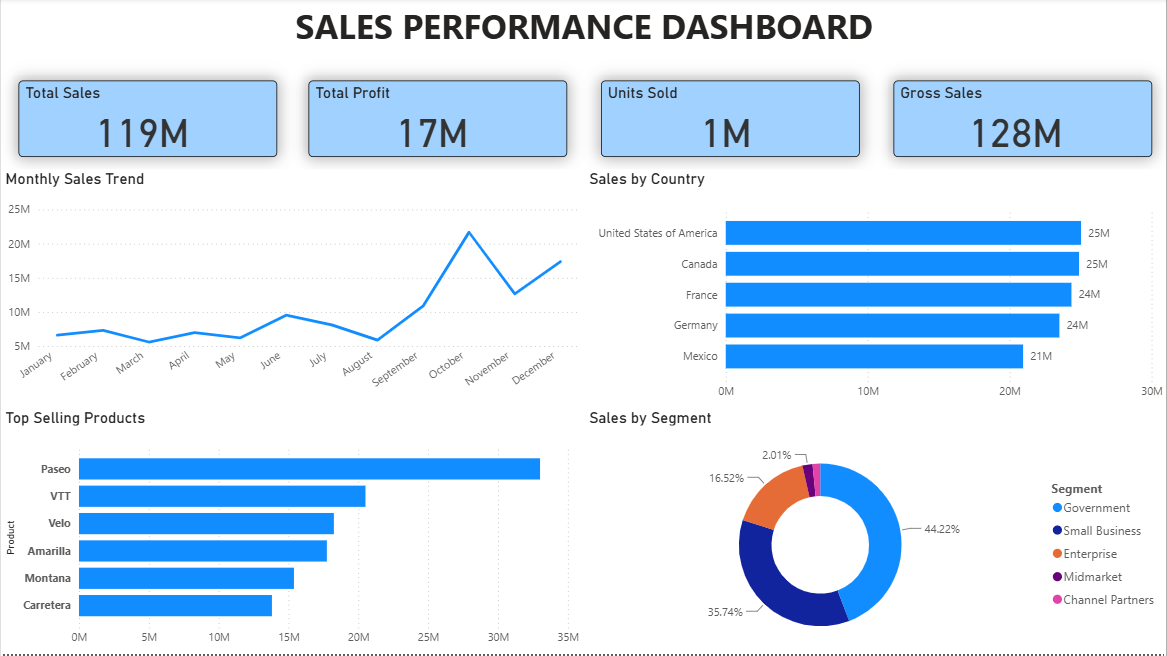

What the dashboard file says about the page in this screenshot:
{"tool":"powerbi","page":{"name":"Page 1","canvas":[1280,720],"ordinal":0},"visuals":[{"type":"advanceCardE03760C5AB684758B56AA29F9E6C257B","title":"Total Sales","fields":{"mainMeasure":["Sum(Sheet1. Sales)"]},"box":[19.2,90.6,284,83.7],"z":0},{"type":"advanceCardE03760C5AB684758B56AA29F9E6C257B","title":"Total Profit","fields":{"mainMeasure":["Sum(Sheet1.Profit)"]},"box":[337.6,90.6,284,83.7],"z":1000},{"type":"advanceCardE03760C5AB684758B56AA29F9E6C257B","title":"Units Sold","fields":{"mainMeasure":["Sum(Sheet1.Units Sold)"]},"box":[658.7,90.6,284,83.7],"z":2000},{"type":"advanceCardE03760C5AB684758B56AA29F9E6C257B","title":"Gross Sales","fields":{"mainMeasure":["Sum(Sheet1.Gross Sales)"]},"box":[979.8,90.6,284,83.7],"z":3000},{"type":"textbox","box":[0,0,1280.3,79.6],"z":4000},{"type":"lineChart","title":"Monthly Sales Trend","fields":{"Category":["Sheet1.Month Name"],"Y":["Sum(Sheet1. Sales)"]},"box":[0,188,639.5,262.1],"z":5000},{"type":"clusteredBarChart","title":"Top Selling Products","fields":{"Category":["Sheet1.Product"],"Y":["Sum(Sheet1. Sales)"]},"box":[0,450.1,639.5,270.3],"z":6000},{"type":"clusteredBarChart","title":"  Sales by Country","fields":{"Category":["Sheet1.Country"],"Y":["Sum(Sheet1. Sales)"]},"box":[640.8,188,639.5,262.1],"z":7000},{"type":"donutChart","title":"Sales by Segment","fields":{"Category":["Sheet1.Segment"],"Y":["Sum(Sheet1. Sales)"]},"box":[640.8,450.1,639.5,270.3],"z":8000}]}

Visuals, with their boxes in screenshot pixels (x1, y1, x2, y2), scaled from the page's 1280x720 canvas onto the 1167x656 screenshot:
"Total Sales" advanceCardE03760C5AB684758B56AA29F9E6C257B: box=[18, 83, 276, 159]
"Total Profit" advanceCardE03760C5AB684758B56AA29F9E6C257B: box=[308, 83, 567, 159]
"Units Sold" advanceCardE03760C5AB684758B56AA29F9E6C257B: box=[601, 83, 859, 159]
"Gross Sales" advanceCardE03760C5AB684758B56AA29F9E6C257B: box=[893, 83, 1152, 159]
textbox: box=[0, 0, 1166, 73]
"Monthly Sales Trend" lineChart: box=[0, 171, 583, 410]
"Top Selling Products" clusteredBarChart: box=[0, 410, 583, 655]
"  Sales by Country" clusteredBarChart: box=[584, 171, 1166, 410]
"Sales by Segment" donutChart: box=[584, 410, 1166, 655]
